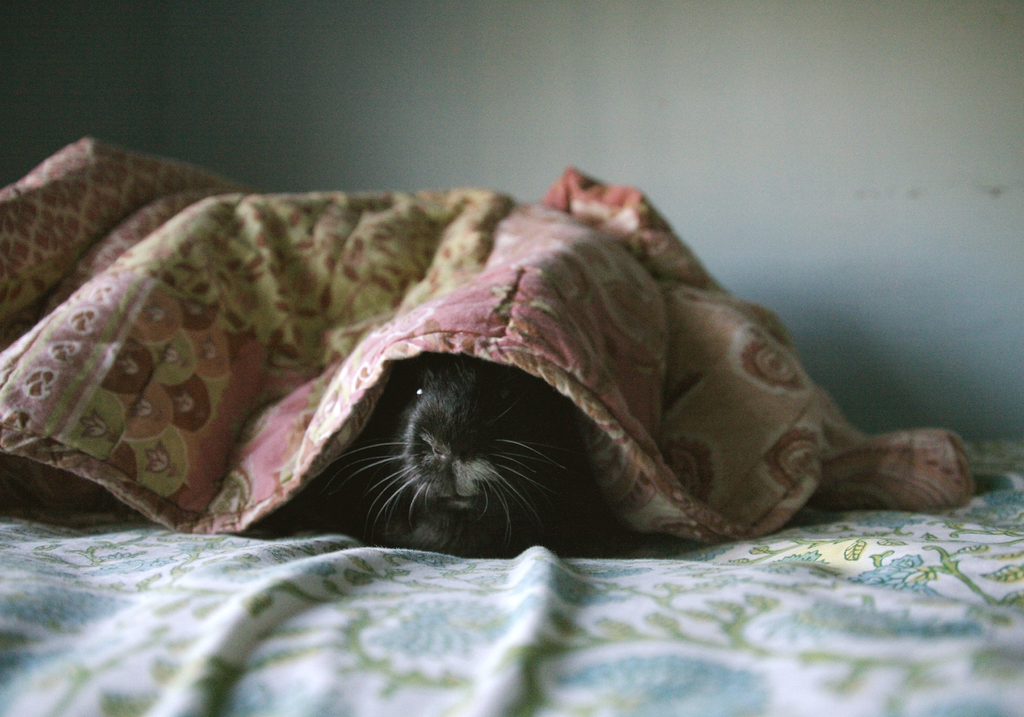Animal: (278, 351, 669, 557)
